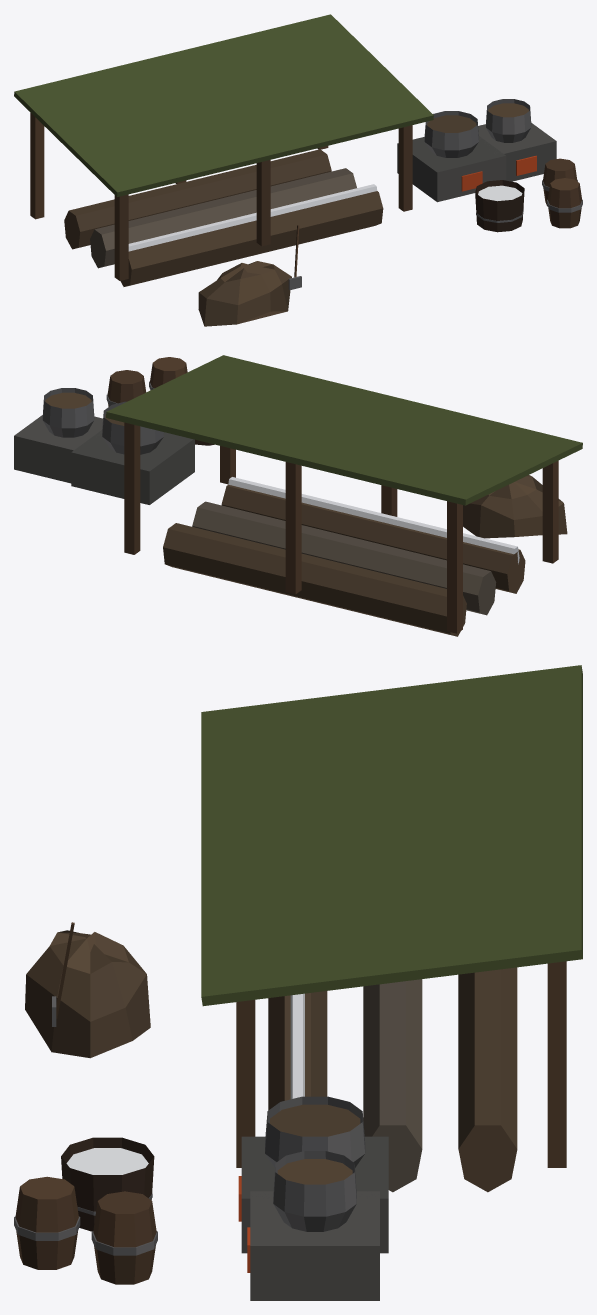
File: walk_steppe_saltpeter.glb
The picture shows the model from 3 angles, top to bottom: view 1: azimuth 30°, elevation 25°; view 2: azimuth 150°, elevation 25°; view 3: azimuth 270°, elevation 25°; orthographic projection. The views are drawn at different scales.
Parts seen in each view (by area): view 1: walk_steppe_saltpeter, walk_steppe_saltpeter_roof; view 2: walk_steppe_saltpeter, walk_steppe_saltpeter_roof; view 3: walk_steppe_saltpeter_roof, walk_steppe_saltpeter.
Part boxes in pixels (x1,y1,x2,y2): walk_steppe_saltpeter: (30, 99, 582, 326); walk_steppe_saltpeter_roof: (14, 14, 433, 196); walk_steppe_saltpeter: (14, 357, 567, 636); walk_steppe_saltpeter_roof: (106, 355, 582, 505); walk_steppe_saltpeter_roof: (201, 665, 582, 1006); walk_steppe_saltpeter: (14, 922, 566, 1300).
Size of what is drawn, in the model's own units: 11.15 by 3.47 by 6.58.
2 materials, 2 textured.
